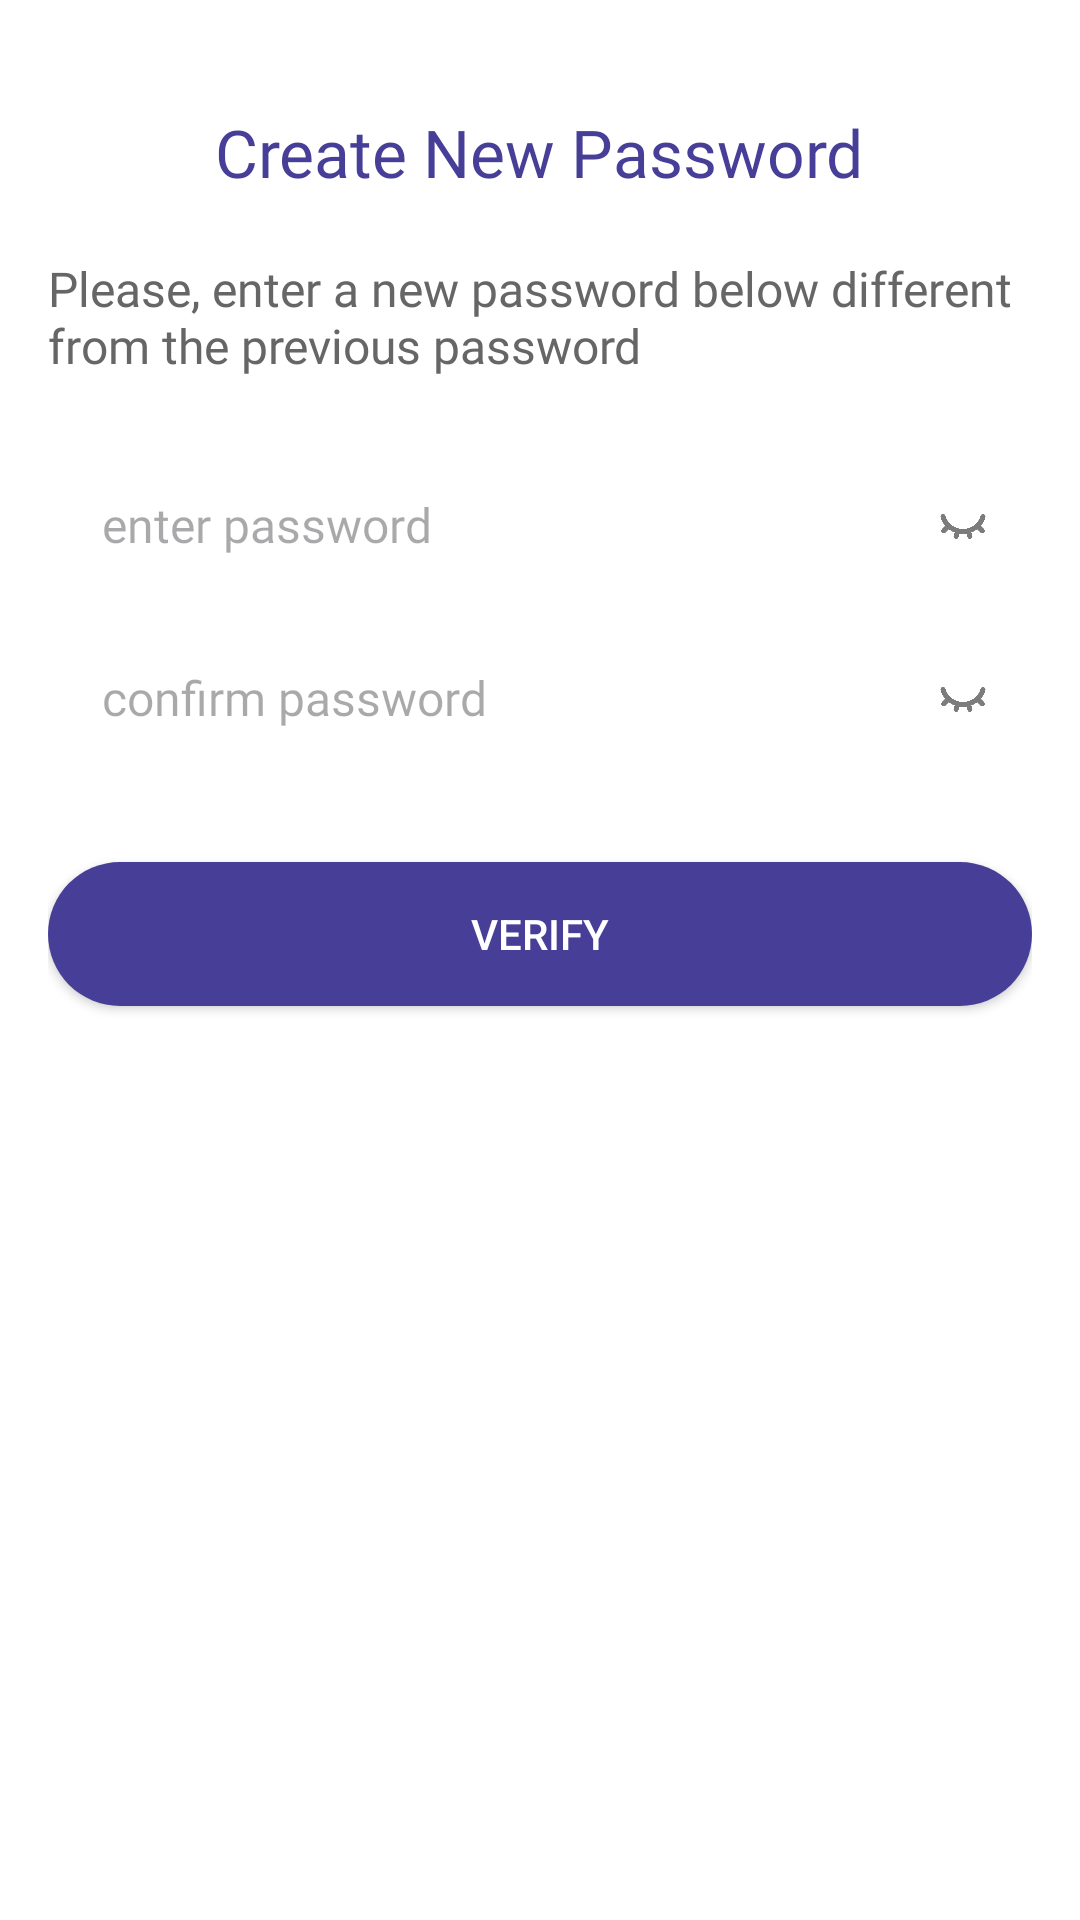

Where icons sit on this 1080 x 1920 app screen, as [x1=x1, y1=y1, x2=x2, y2=y2]:
eye close: [x1=940, y1=514, x2=986, y2=539], [x1=940, y1=687, x2=986, y2=712]
